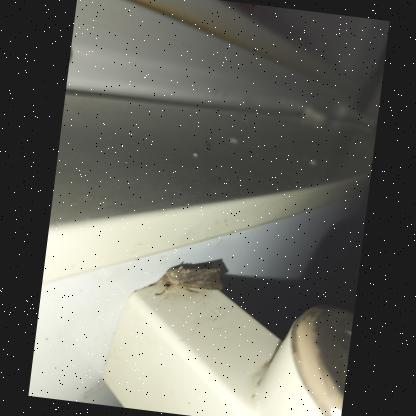Fall Armyworm Moth: (145, 258, 227, 304)
